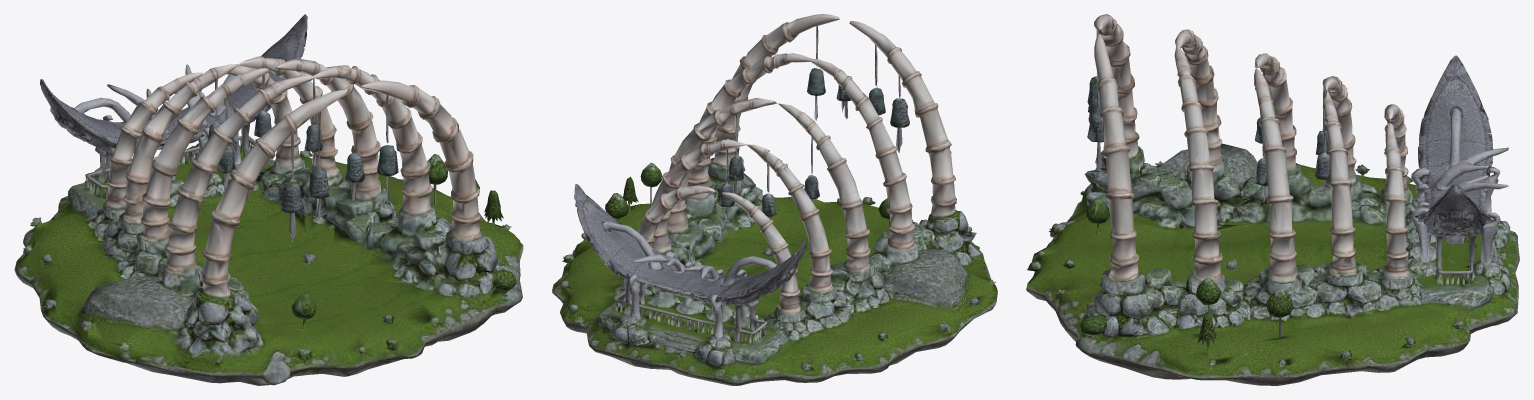
The model's file is 10-stage-three-gate.glb.
The picture shows the model from 3 angles, left to right: view 1: azimuth 30°, elevation 25°; view 2: azimuth 150°, elevation 25°; view 3: azimuth 270°, elevation 25°; orthographic projection. The views are drawn at different scales.
Visible parts, largest first — view 1: tripo_node_51a714bd-8be3-476f-a15c-3b6dd76e10e6; view 2: tripo_node_51a714bd-8be3-476f-a15c-3b6dd76e10e6; view 3: tripo_node_51a714bd-8be3-476f-a15c-3b6dd76e10e6.
Boxes of the visible parts, x1=… form: tripo_node_51a714bd-8be3-476f-a15c-3b6dd76e10e6: x1=14, y1=14, x2=523, y2=385; tripo_node_51a714bd-8be3-476f-a15c-3b6dd76e10e6: x1=552, y1=14, x2=997, y2=385; tripo_node_51a714bd-8be3-476f-a15c-3b6dd76e10e6: x1=1026, y1=14, x2=1519, y2=385.
Size of the model in its own units: 3.04 by 2.1 by 3.
Materials: 1 (1 with a texture image).
